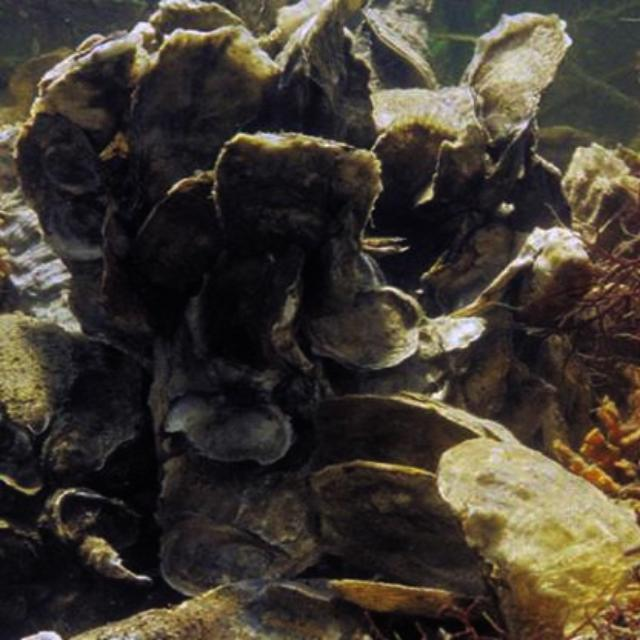Oyster-Closed: (157, 363, 332, 593), (441, 438, 640, 640), (212, 131, 385, 318), (125, 26, 276, 231), (53, 577, 377, 640), (15, 108, 114, 262), (462, 13, 576, 145), (41, 357, 143, 488), (35, 32, 140, 152), (131, 171, 226, 293), (303, 283, 424, 373), (270, 0, 346, 133), (0, 313, 77, 432), (372, 122, 457, 218), (365, 8, 438, 89), (363, 250, 390, 285)
Oyster-Open: (314, 460, 503, 618), (321, 390, 528, 476), (564, 145, 640, 251), (363, 236, 407, 258)
